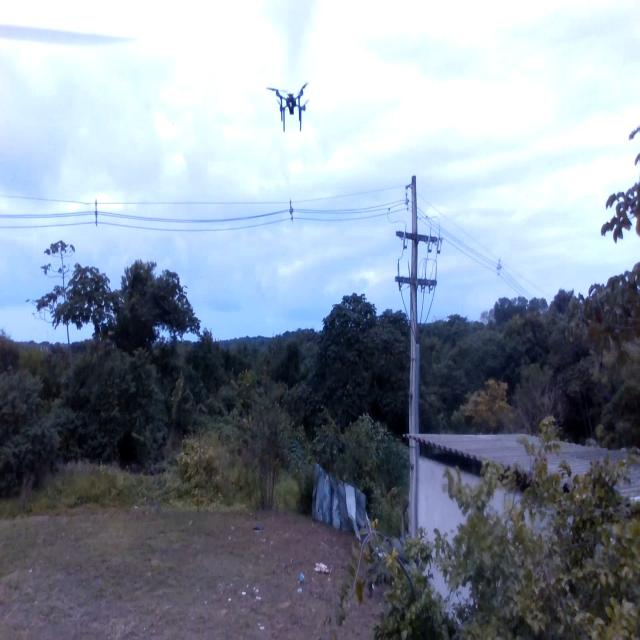-uav-: (262, 76, 318, 139)
